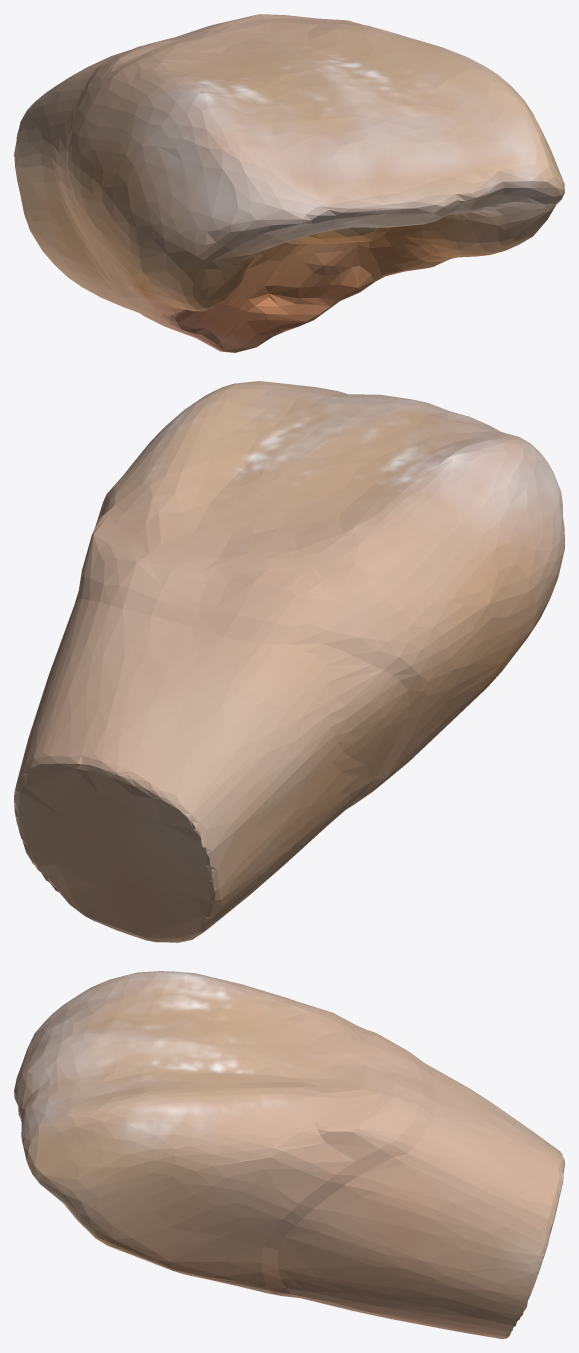
The model's file is local_t11_7780.OBJ.
The picture shows the model from 3 angles, top to bottom: view 1: azimuth 30°, elevation 25°; view 2: azimuth 150°, elevation 25°; view 3: azimuth 270°, elevation 25°; orthographic projection. The views are drawn at different scales.
Visible parts, largest first — view 1: ZBrush_defualt_group; view 2: ZBrush_defualt_group; view 3: ZBrush_defualt_group.
Boxes of the visible parts, x1,y1,x2,y2 form: ZBrush_defualt_group: [14, 14, 564, 352]; ZBrush_defualt_group: [14, 381, 564, 942]; ZBrush_defualt_group: [14, 971, 564, 1338].
Size of the model in its own units: 8.89 by 8.16 by 13.38.
1 material, 1 textured.
